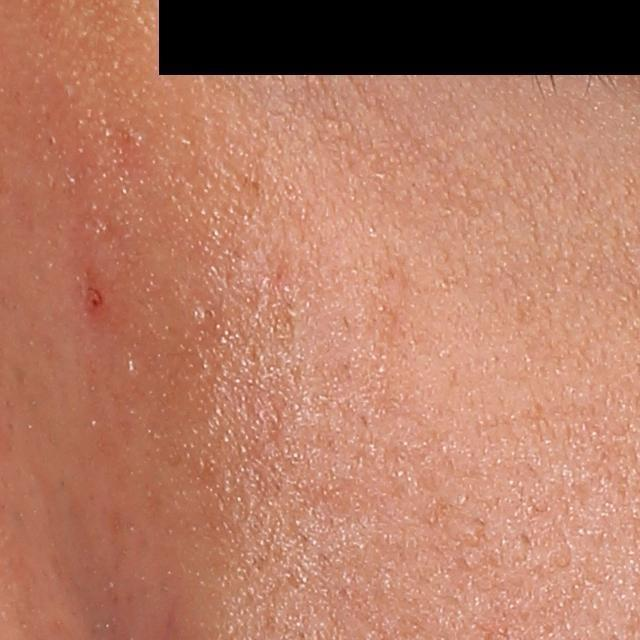comedo: (188, 299, 221, 328)
papule: (75, 263, 118, 327)
